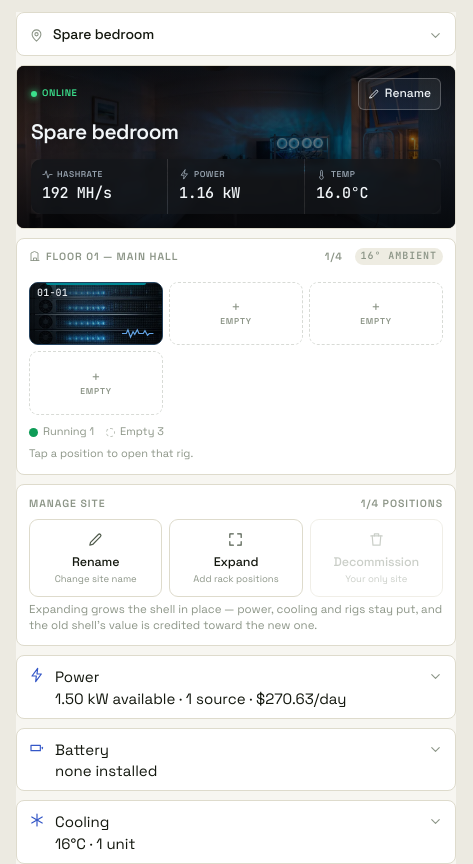
Test: SitesView › expanding the Power section renders the flow bars without throwing
Click the button with class "rig-hd" that starts with "Power" at (236, 687), box [17,656,455,718]
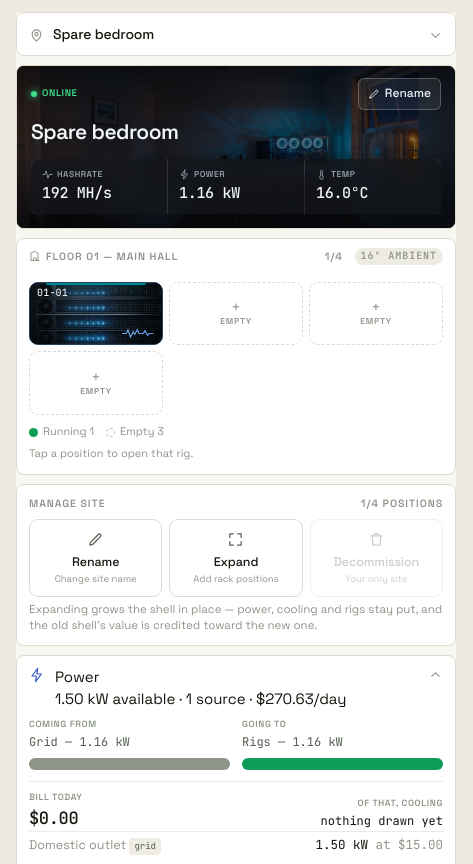
Expected: the text "Coming from" is shown, [29,718,97,730]
Expected: the text "Going to" is shown, [242,718,286,730]
